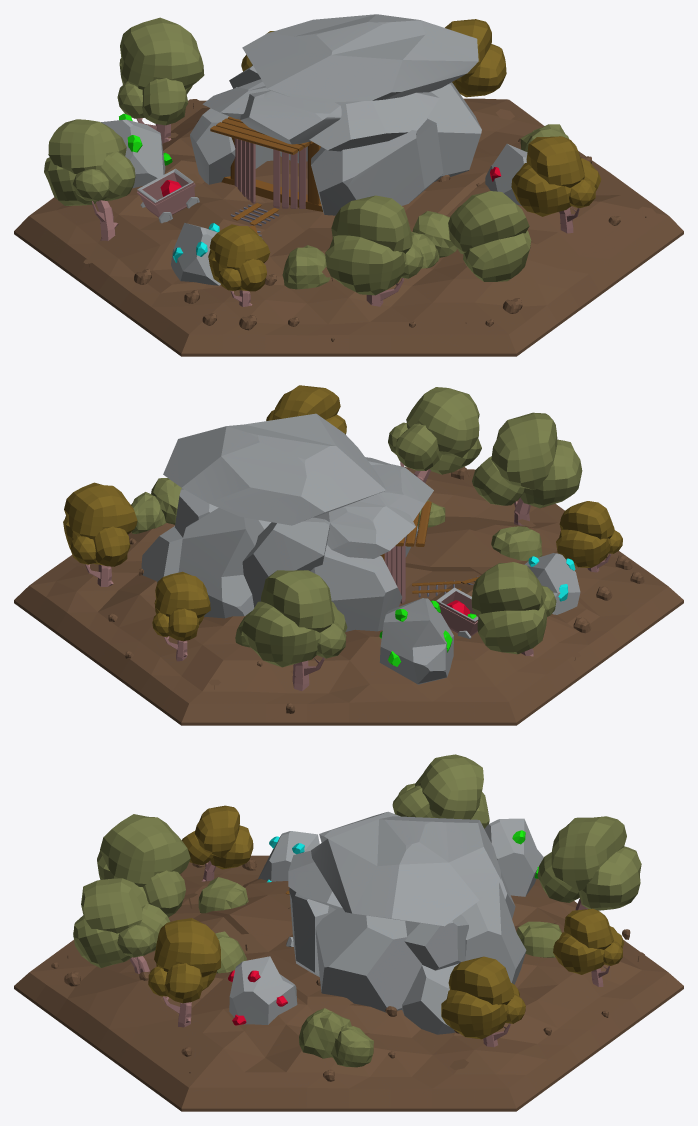
Rendered from mine.glb.
3 renders of one model, top to bottom at view 1: azimuth 30°, elevation 25°; view 2: azimuth 150°, elevation 25°; view 3: azimuth 270°, elevation 25°, orthographic.
Visible parts, largest first — view 1: land, building; view 2: land, building; view 3: land, building.
Part boxes in pixels (left/top/right/bottom): land: left=14, top=14, right=683, bottom=356; building: left=119, top=113, right=501, bottom=262; land: left=14, top=385, right=683, bottom=725; building: left=379, top=556, right=575, bottom=666; land: left=14, top=754, right=683, bottom=1111; building: left=228, top=830, right=538, bottom=1025.
Size of the model in its own units: 1.73 by 0.6951 by 2.
Materials: 2 (2 with a texture image).
